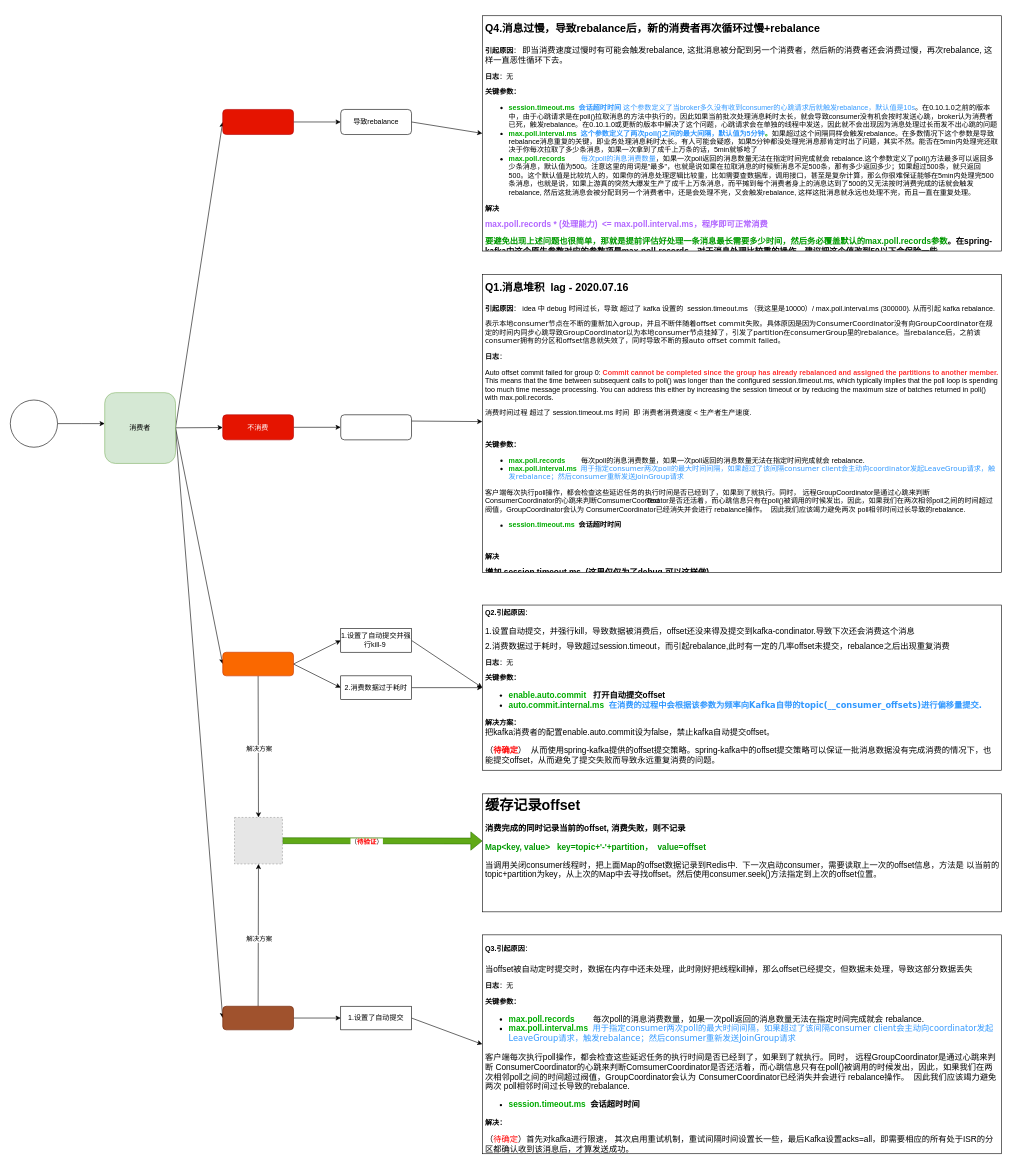
This 1012x1165 diagram has some shape labels left out. Grey dashed boxes stand in for pictures. Each missing label, with the centre of its shape:
消息丢失: [258,1018]
消息堆积 lag: [376,427]
消费过慢: [258,122]
重复消费: [258,664]
问题记录: [34,423]
